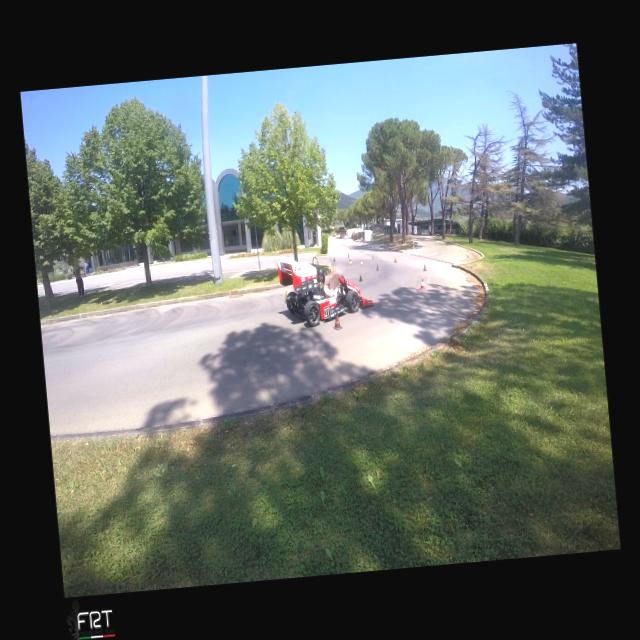orange_cone: (418, 278, 425, 289), (359, 259, 364, 265)
unknown_cone: (330, 310, 342, 330), (282, 290, 288, 304), (358, 272, 363, 282), (374, 263, 380, 271), (392, 256, 397, 264), (422, 263, 427, 271), (332, 256, 335, 262), (346, 252, 349, 258), (371, 254, 374, 259)
yellow_cone: (348, 256, 352, 264)
